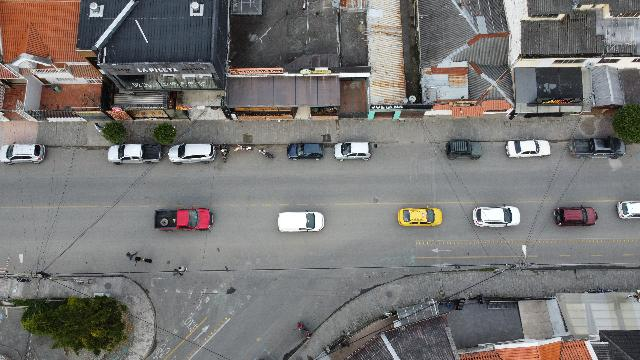Vehiculo: (154, 207, 213, 231), (568, 136, 626, 158), (108, 144, 162, 164), (0, 142, 46, 164), (474, 205, 520, 227), (168, 144, 216, 164), (278, 212, 324, 232), (398, 206, 442, 226), (554, 206, 598, 226), (444, 138, 482, 160), (506, 140, 550, 158), (334, 142, 372, 160), (288, 144, 324, 160), (617, 201, 639, 219)
